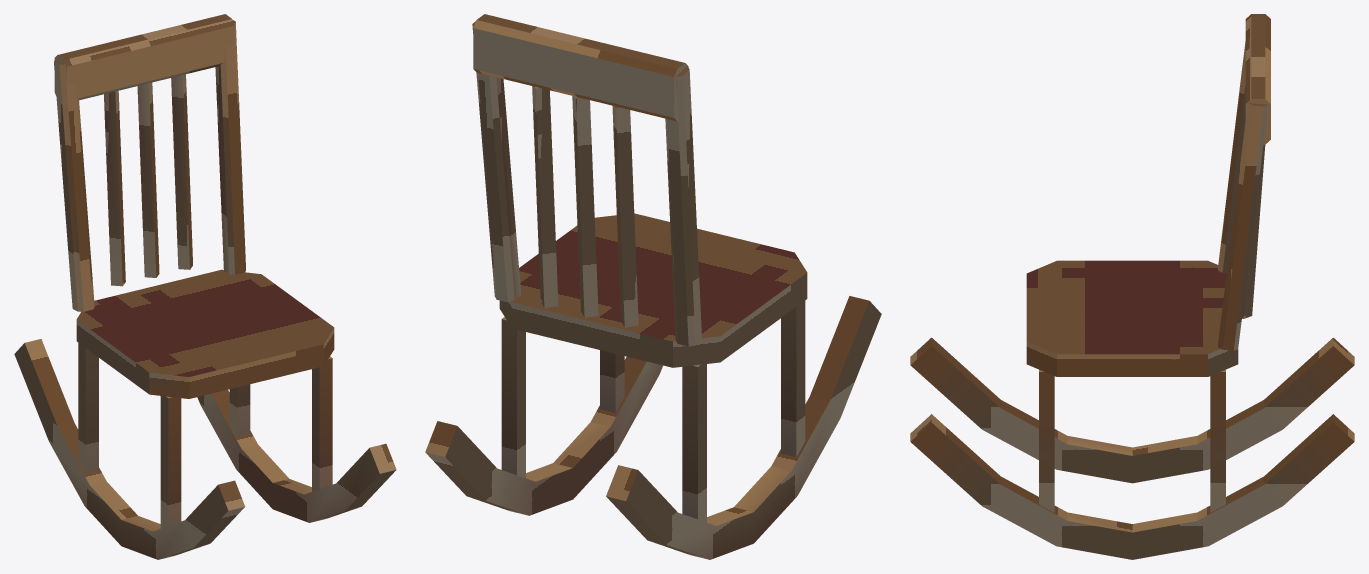
File: wprop.chair__rocking.glb
The picture shows the model from 3 angles, left to right: view 1: azimuth 30°, elevation 25°; view 2: azimuth 150°, elevation 25°; view 3: azimuth 270°, elevation 25°; orthographic projection. The views are drawn at different scales.
Parts seen in each view (by area): view 1: kit_seat, kit_runners, kit_back_posts, kit_spindles, kit_legs, kit_back; view 2: kit_runners, kit_seat, kit_back_posts, kit_legs, kit_back, kit_spindles; view 3: kit_runners, kit_seat, kit_back_posts, kit_legs, kit_back, kit_spindles.
Boxes of the visible parts, bbox=[...] form: kit_seat: bbox=[76, 269, 334, 398]; kit_runners: bbox=[14, 339, 396, 559]; kit_back_posts: bbox=[54, 20, 245, 311]; kit_spindles: bbox=[104, 74, 192, 286]; kit_legs: bbox=[78, 343, 332, 528]; kit_back: bbox=[54, 14, 234, 100]; kit_runners: bbox=[425, 296, 881, 559]; kit_seat: bbox=[499, 213, 807, 367]; kit_back_posts: bbox=[472, 21, 701, 346]; kit_legs: bbox=[501, 300, 805, 522]; kit_back: bbox=[473, 14, 688, 121]; kit_spindles: bbox=[532, 86, 638, 327]; kit_runners: bbox=[910, 337, 1354, 559]; kit_seat: bbox=[1026, 260, 1238, 376]; kit_back_posts: bbox=[1218, 41, 1268, 350]; kit_legs: bbox=[1039, 369, 1225, 512]; kit_back: bbox=[1245, 14, 1270, 144]; kit_spindles: bbox=[1242, 144, 1265, 318].
Bounding box in the file's own units: 0.44 × 1.01 × 0.8823.
2 materials, 2 textured.
